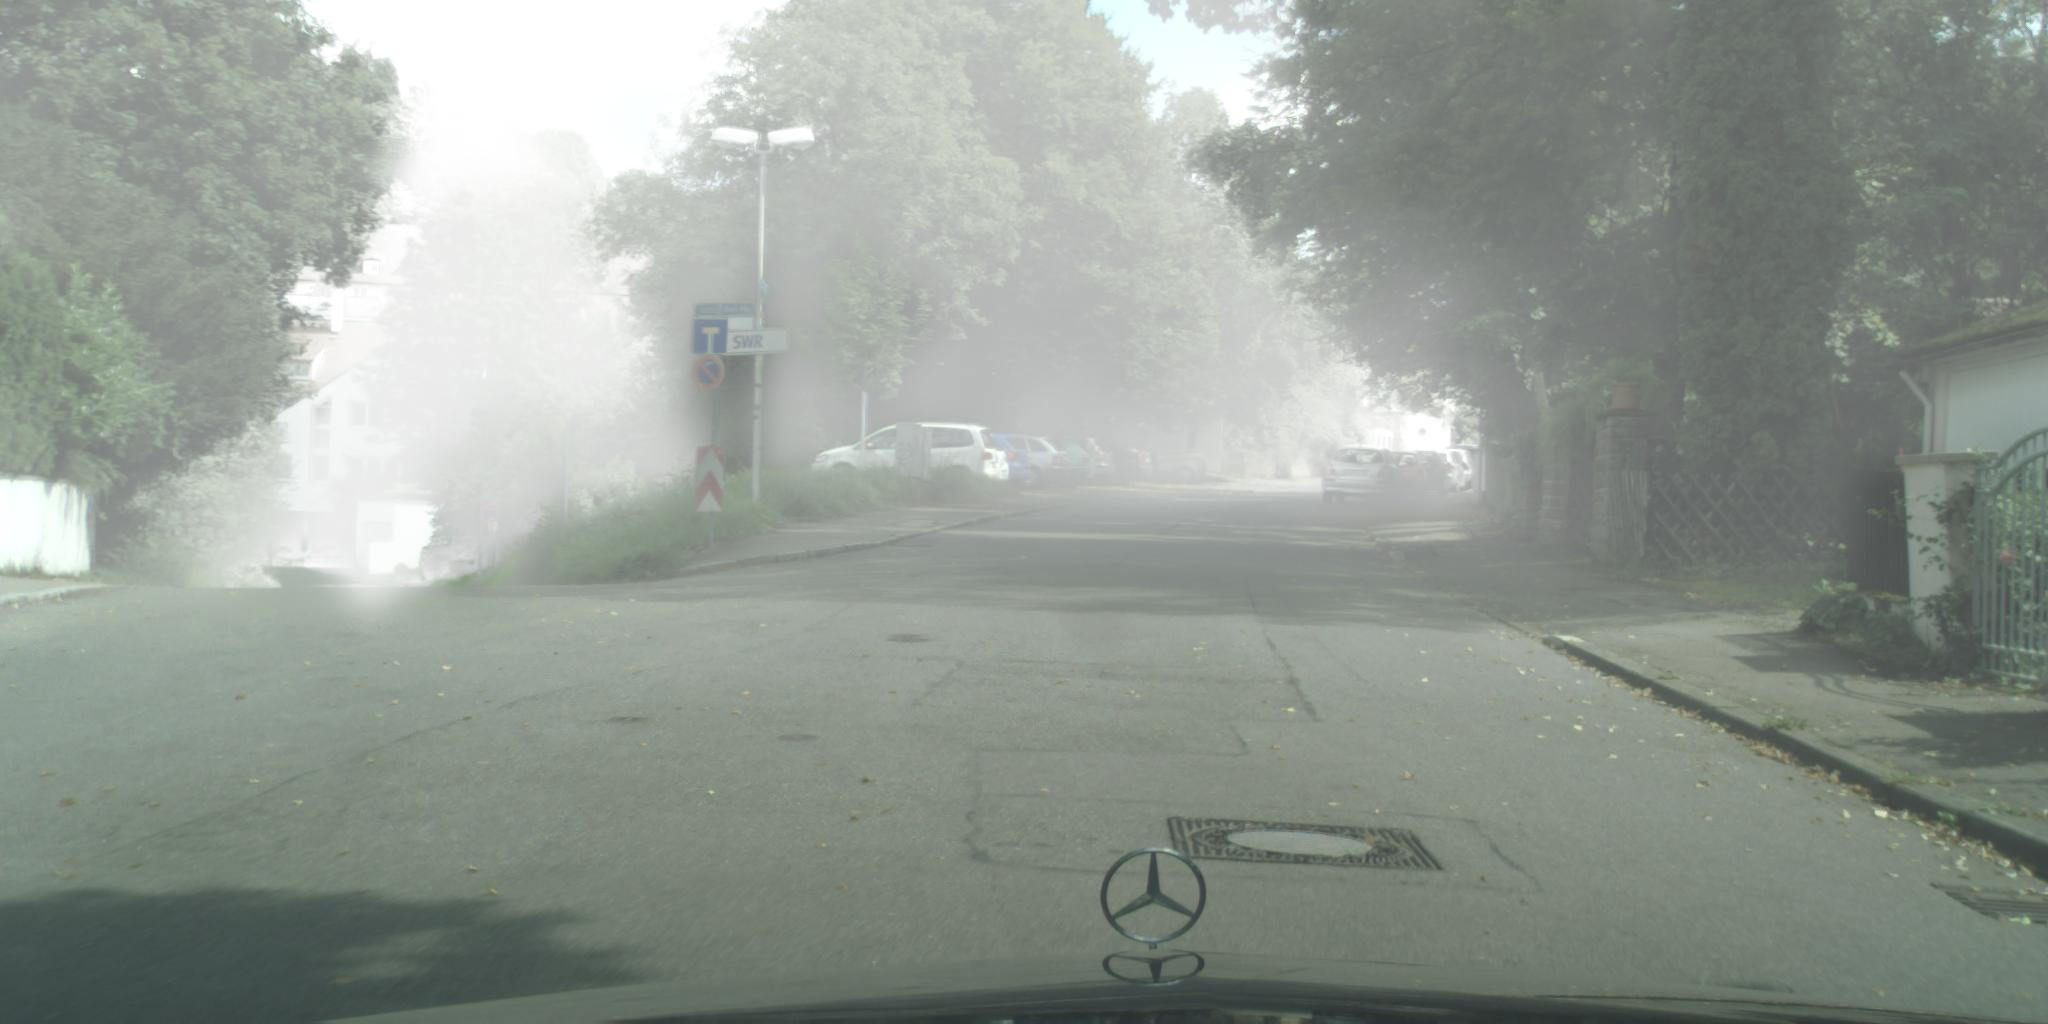car: (811, 423, 1010, 487), (1324, 445, 1407, 509), (997, 435, 1072, 490), (1079, 439, 1155, 487), (1059, 438, 1117, 487), (982, 434, 1032, 488), (1044, 439, 1097, 488), (1388, 452, 1429, 503), (1413, 452, 1451, 499), (1445, 451, 1477, 494), (1437, 452, 1465, 498), (1447, 445, 1482, 465)
